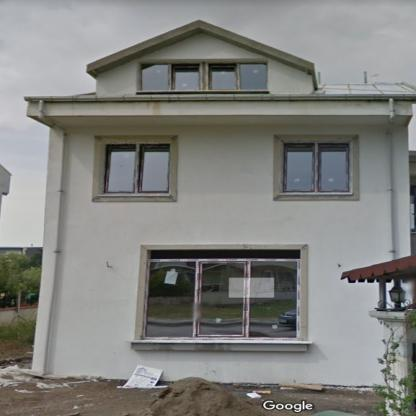window: (144, 250, 298, 340), (140, 61, 265, 91), (283, 143, 351, 192), (104, 145, 167, 194)
